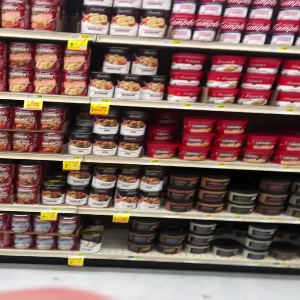void: (103, 213, 130, 259)
